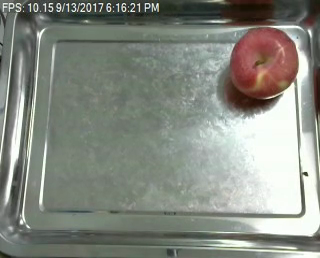Apple: (227, 27, 299, 100)
